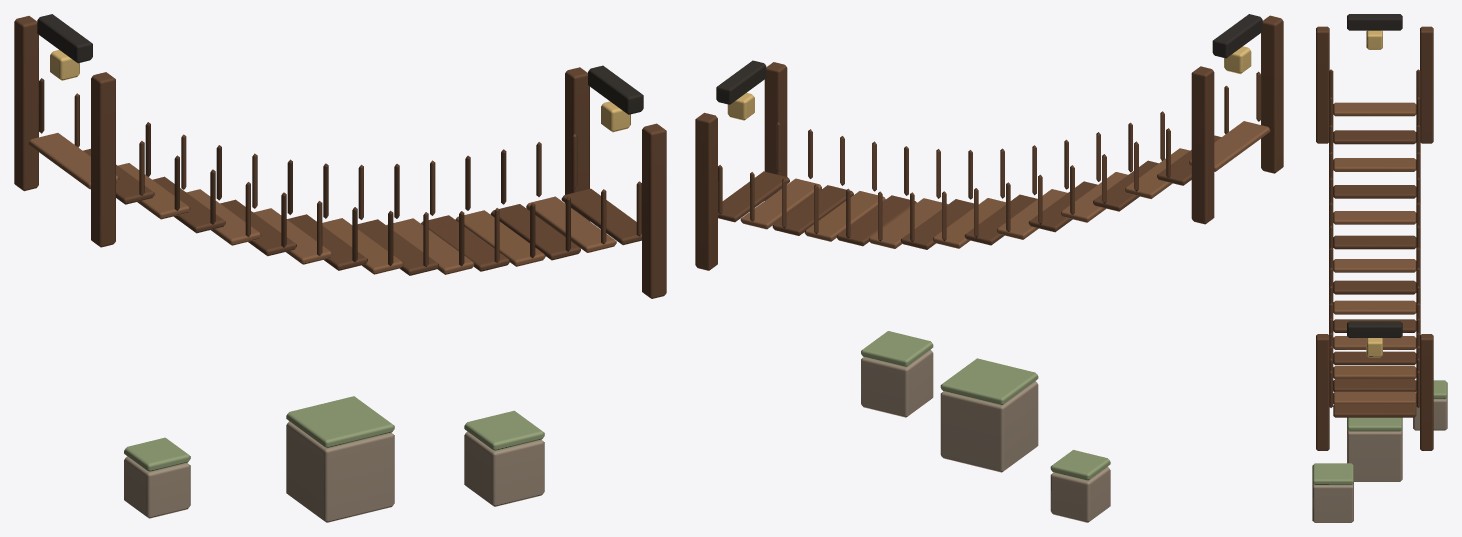
The model's file is region_18.glb.
3 views of the same model, side by side, from view 1: azimuth 30°, elevation 25°; view 2: azimuth 150°, elevation 25°; view 3: azimuth 270°, elevation 25° (orthographic). The views are drawn at different scales.
Visible parts, largest first — view 1: region_18_static, region_18_rocks, region_18_glow; view 2: region_18_static, region_18_rocks, region_18_glow; view 3: region_18_static, region_18_rocks, region_18_glow.
Part boxes in pixels (x1,y1,x2,y2): region_18_static: (14,14,666,298); region_18_rocks: (124,396,544,522); region_18_glow: (50,50,630,132); region_18_static: (695,14,1283,270); region_18_rocks: (861,331,1110,522); region_18_glow: (727,46,1251,120); region_18_static: (1316,14,1433,450); region_18_rocks: (1312,380,1447,522); region_18_glow: (1366,30,1382,357).
Bounding box in the file's own units: 6.44 × 5.8 × 1.95.
